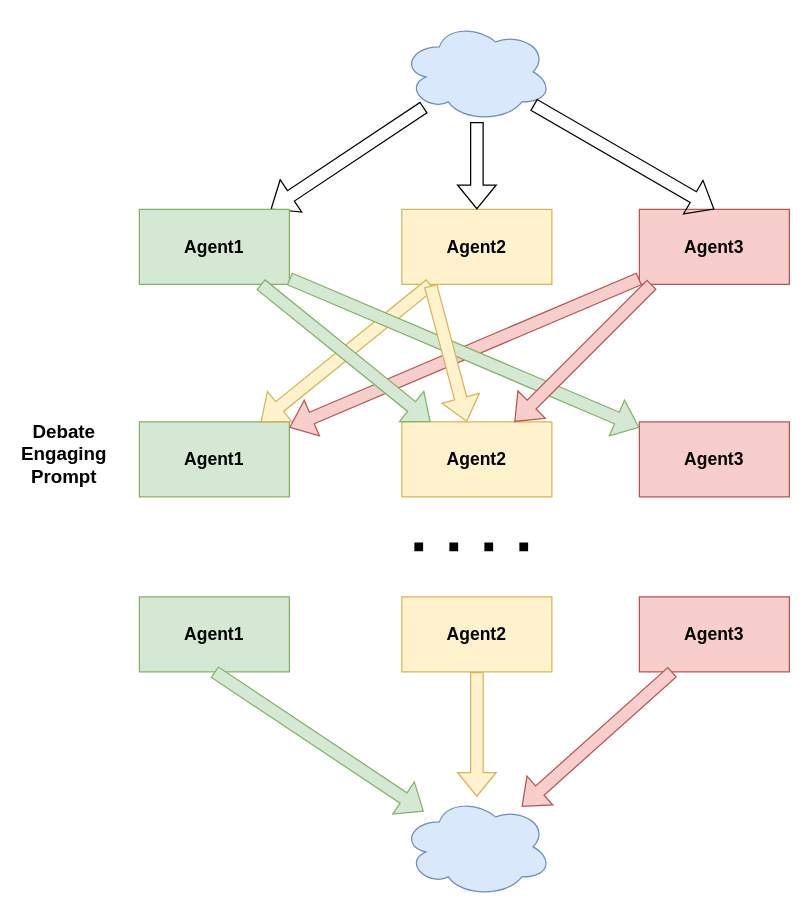
Some shapes in this 811 by 919 pixel diagram are drawn without their labels. The centre of each missing label's shape, as x and y in pixels:
Majority Voting: point 476,846
Prompt: point 476,71
